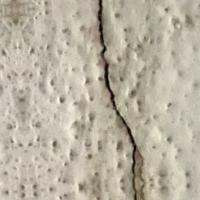crack: (83, 0, 153, 199)
